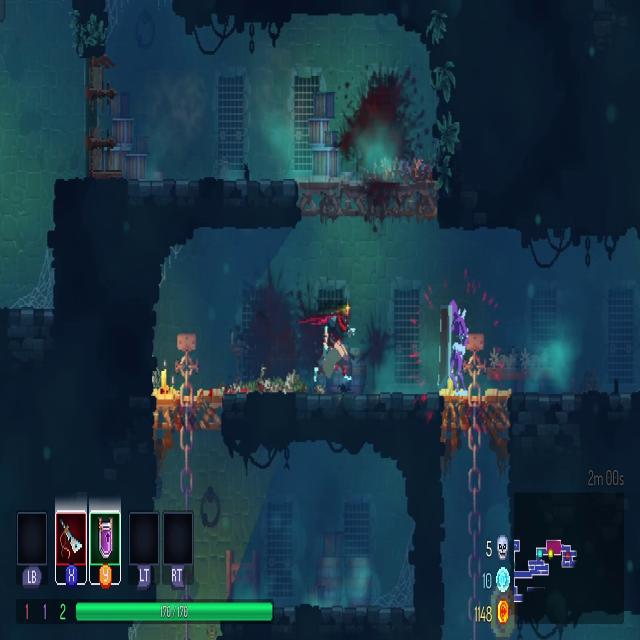agents: (320, 305, 360, 393)
enemy_purple_shield: (435, 300, 467, 398)
wood_floor: (296, 173, 439, 222), (440, 388, 512, 442), (153, 387, 225, 432)
